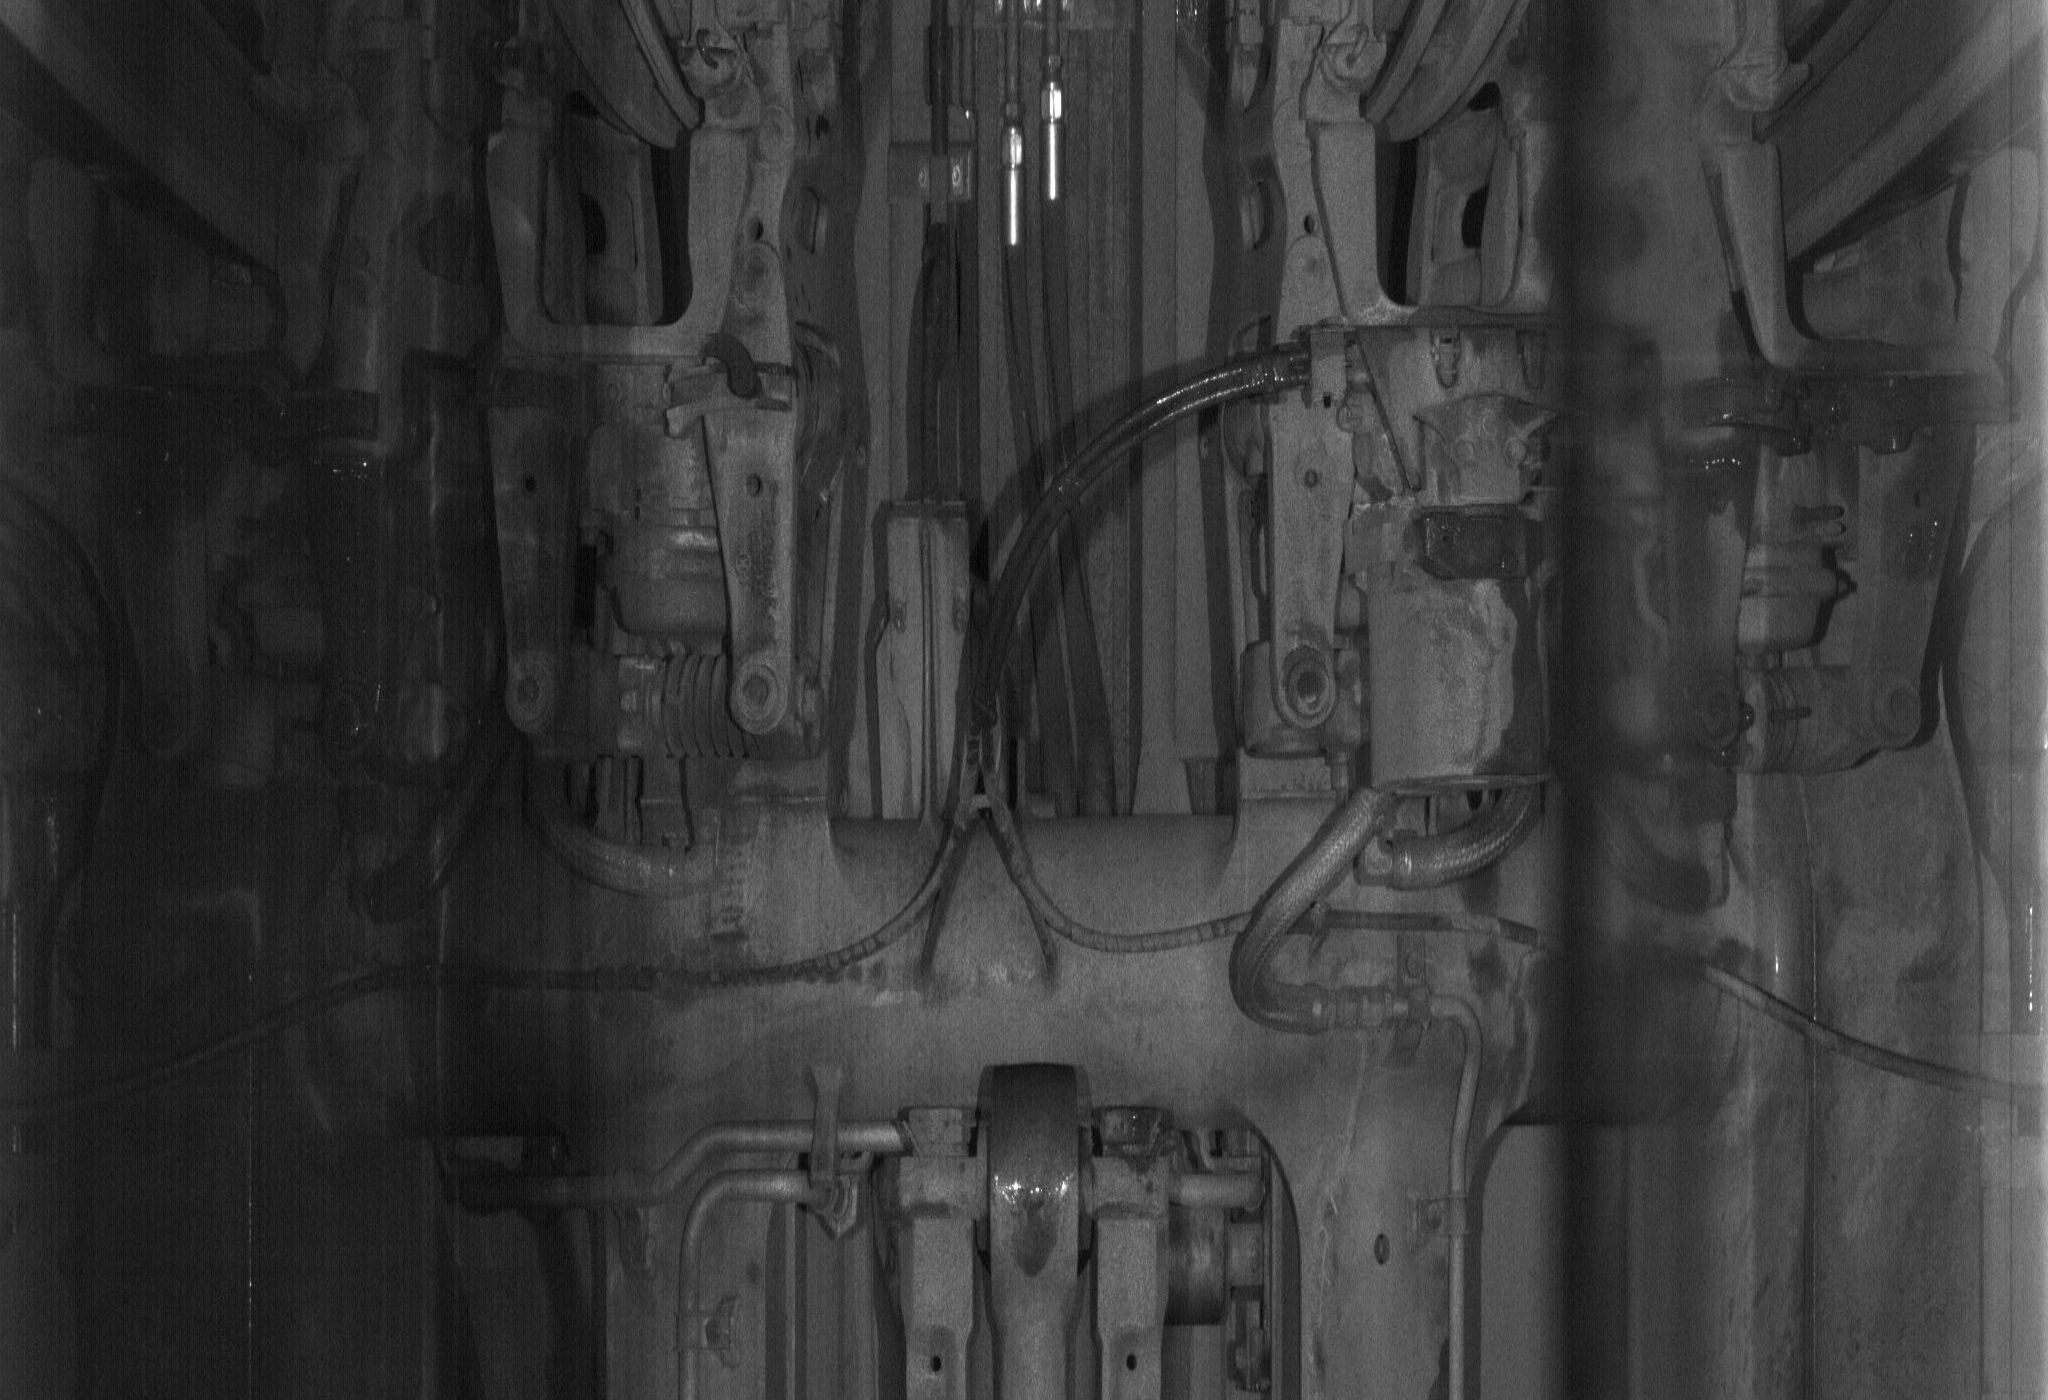area: (1374, 582, 1559, 789), (608, 530, 728, 633), (1743, 548, 1830, 638), (249, 577, 331, 664)
